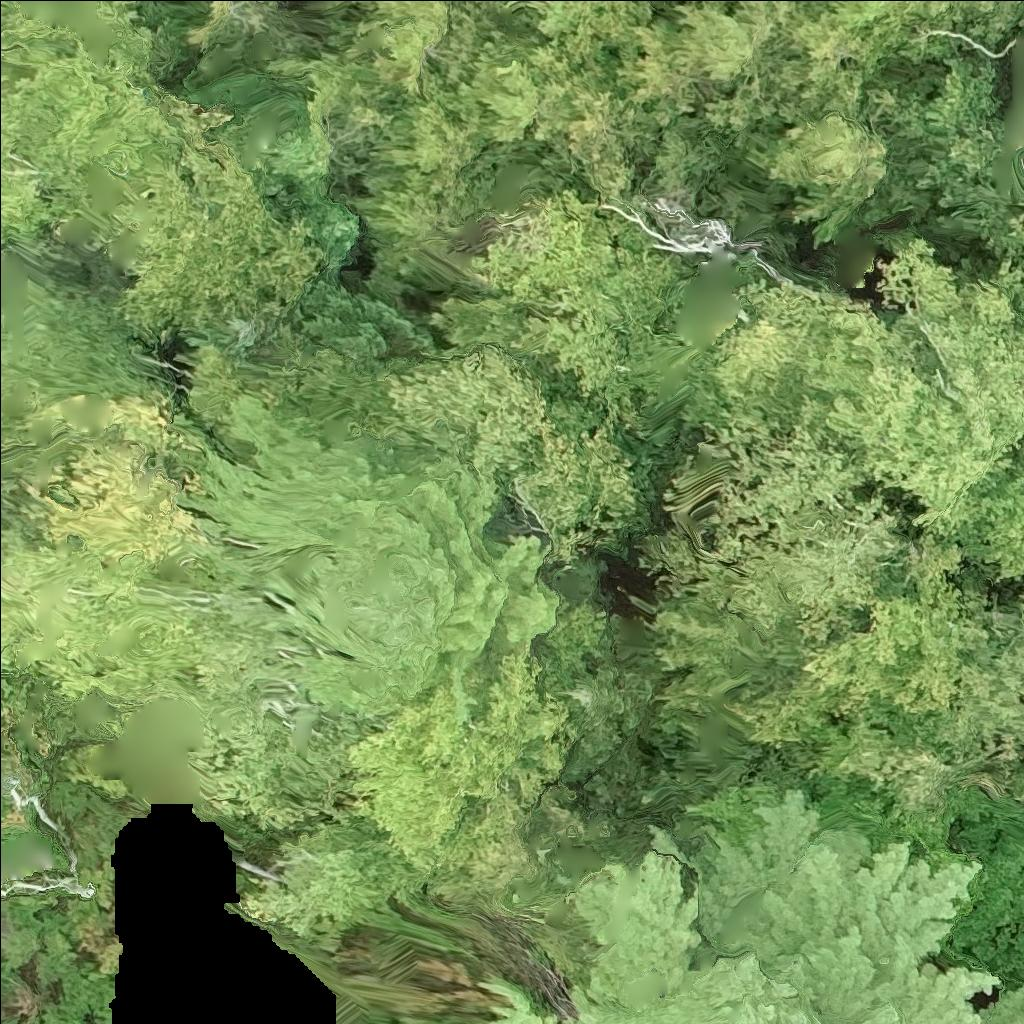crown: (479, 787, 1023, 1023), (683, 239, 1023, 540), (748, 530, 998, 749), (809, 711, 1015, 812), (934, 434, 1023, 580), (958, 616, 1023, 756), (1021, 797, 1023, 801)
